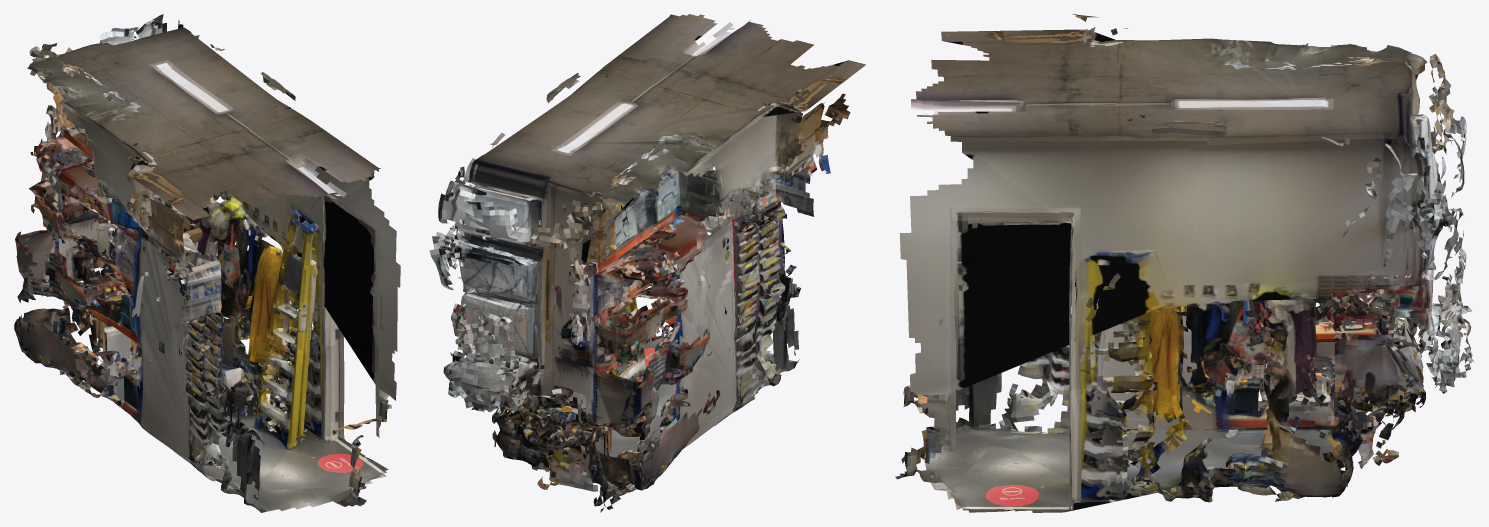
The picture shows the model from 3 angles, left to right: view 1: azimuth 30°, elevation 25°; view 2: azimuth 150°, elevation 25°; view 3: azimuth 270°, elevation 25°; orthographic projection. The views are drawn at different scales.
Visible parts, largest first — view 1: Mg_o2_b_2-IM; view 2: Mg_o2_b_2-IM; view 3: Mg_o2_b_2-IM.
Boxes of the visible parts, <box> form: Mg_o2_b_2-IM: <box>14,14,400,512</box>; Mg_o2_b_2-IM: <box>429,14,865,512</box>; Mg_o2_b_2-IM: <box>895,14,1474,512</box>.
Bounding box in the file's own units: 222 × 339 × 452.
1 material, 1 textured.
